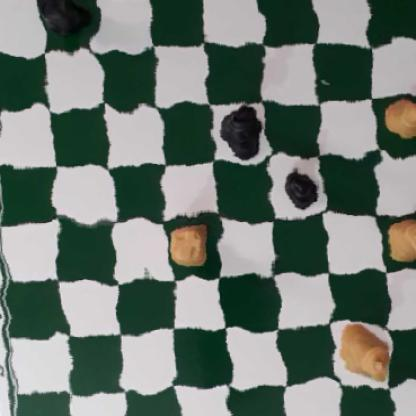black-king: (218, 100, 269, 154)
black-pawn: (282, 162, 321, 208)
black-rook: (36, 0, 87, 45)
white-bishop: (383, 210, 416, 268)
white-king: (335, 323, 391, 380)
white-pawn: (380, 96, 416, 145)
white-rook: (166, 218, 217, 272)
